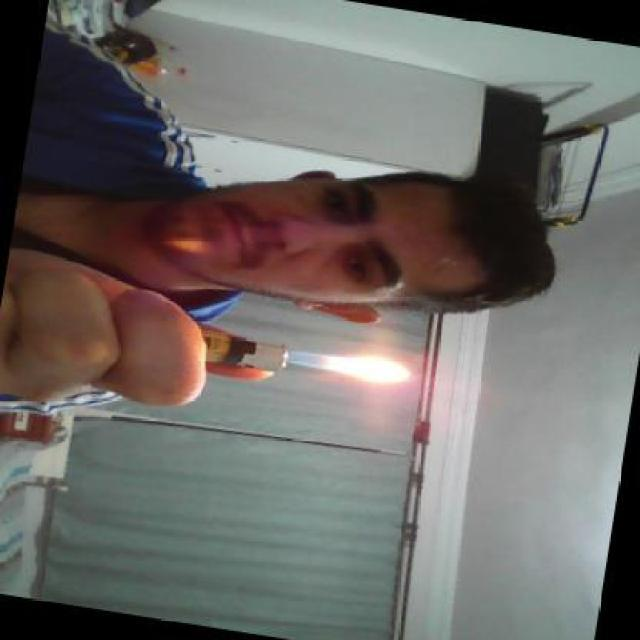Fire: (293, 342, 418, 392)
